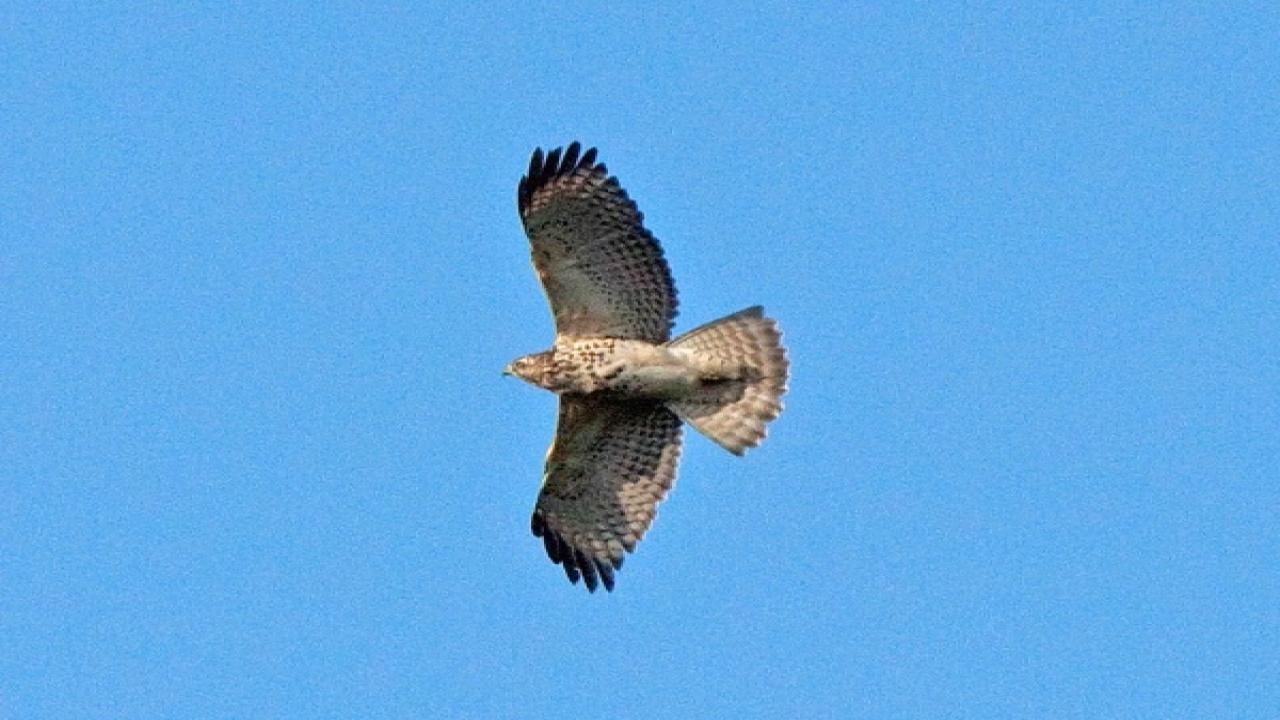Bird: (480, 137, 810, 604)
